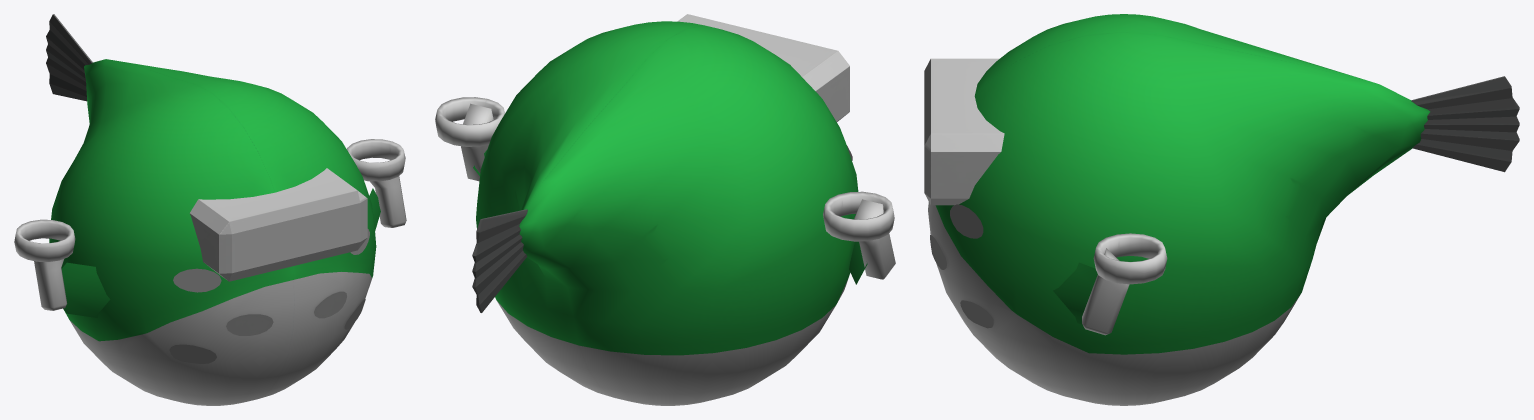
File: fuku-san.glb
The picture shows the model from 3 angles, left to right: view 1: azimuth 30°, elevation 25°; view 2: azimuth 150°, elevation 25°; view 3: azimuth 270°, elevation 25°; orthographic projection. The views are drawn at different scales.
Visible parts, largest first — view 1: huku-san, HMD; view 2: huku-san, HMD; view 3: huku-san, HMD.
Part boxes in pixels (<box>): huku-san: <box>46,14,380,405</box>; HMD: <box>14,139,406,310</box>; huku-san: <box>472,21,867,405</box>; HMD: <box>435,14,895,279</box>; huku-san: <box>928,14,1519,405</box>; HMD: <box>924,58,1167,335</box>.
Size of the model in its own units: 2.7 by 2 by 3.04.
1 material, 1 textured.
